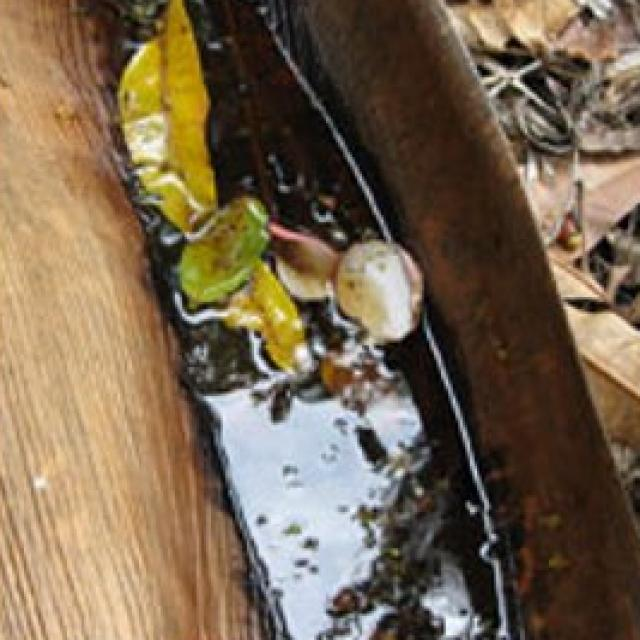Breeding Place: (73, 0, 569, 640)
